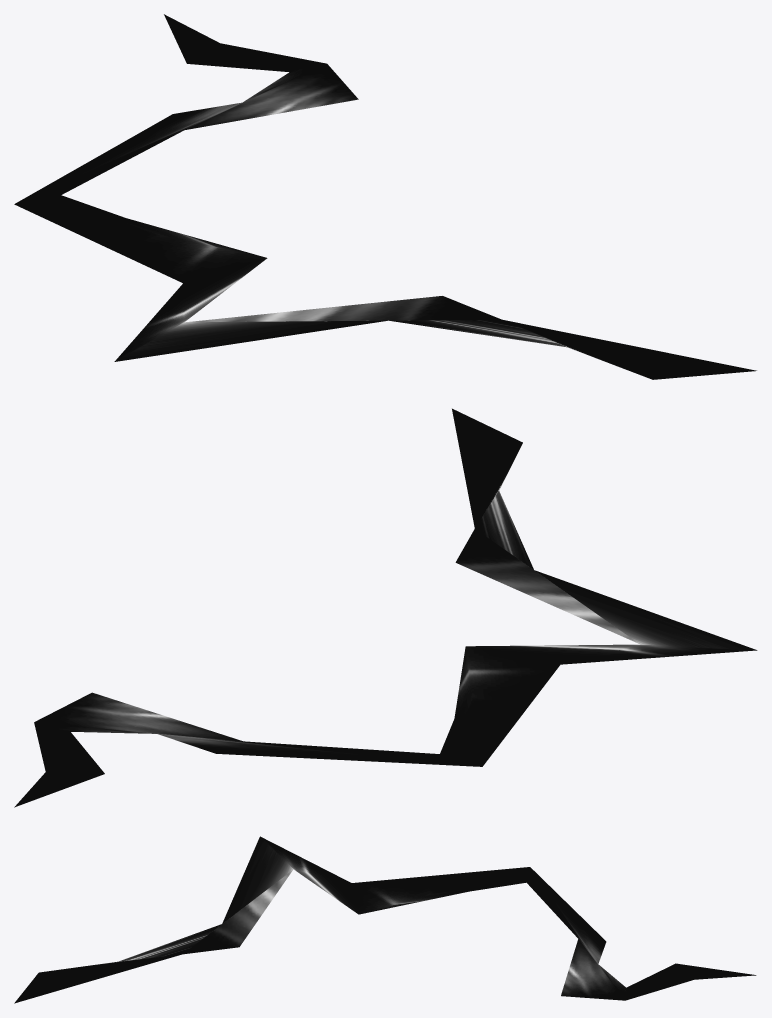
File: 0451_tunder4.glb
3 views of the same model, one above another, from view 1: azimuth 30°, elevation 25°; view 2: azimuth 150°, elevation 25°; view 3: azimuth 270°, elevation 25° (orthographic). The views are drawn at different scales.
Bounding box in the file's own units: 1.17 × 1.35e-16 × 2.2.
Materials: 1 (1 with a texture image).
